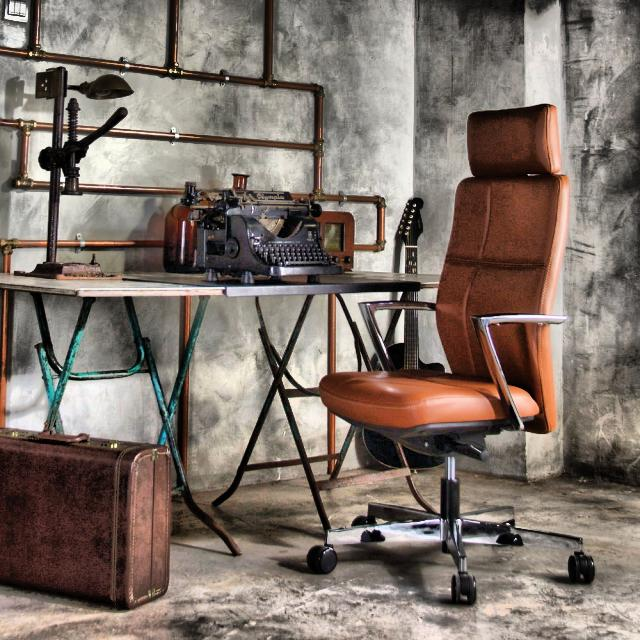cadeira: (299, 102, 599, 604)
